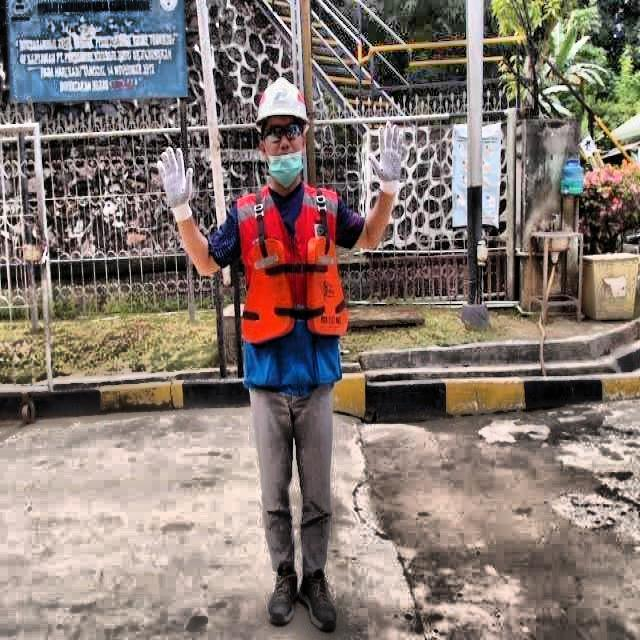safety_helmet: (254, 76, 312, 133)
safety_jacket: (236, 184, 347, 389)
